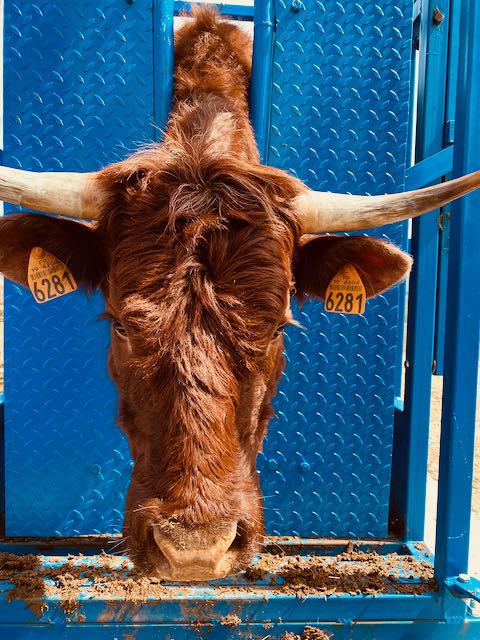muzzles: (111, 508, 266, 585)
